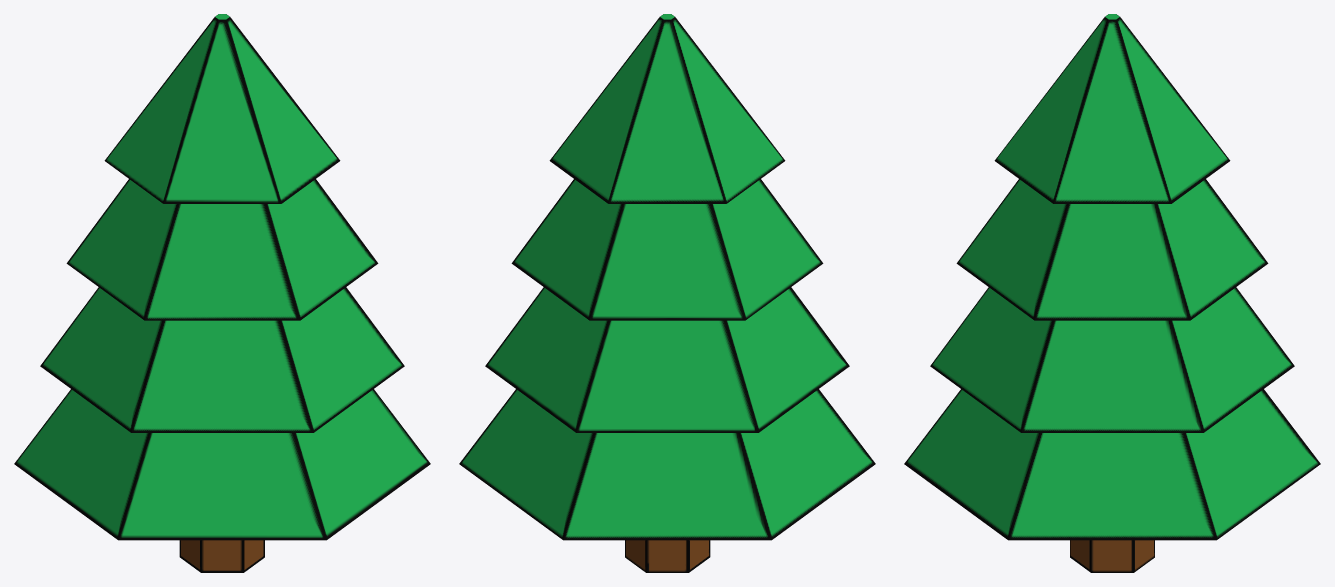
File: Pine2.fbx
The picture shows the model from 3 angles, left to right: view 1: azimuth 30°, elevation 25°; view 2: azimuth 150°, elevation 25°; view 3: azimuth 270°, elevation 25°; orthographic projection.
Parts seen in each view (by area): view 1: Pine2; view 2: Pine2; view 3: Pine2.
Part boxes in pixels (<box>): Pine2: <box>14,14,430,572</box>; Pine2: <box>459,14,875,572</box>; Pine2: <box>904,14,1320,572</box>.
Size of the model in its own units: 272 by 450 by 314.
1 material, 1 textured.
